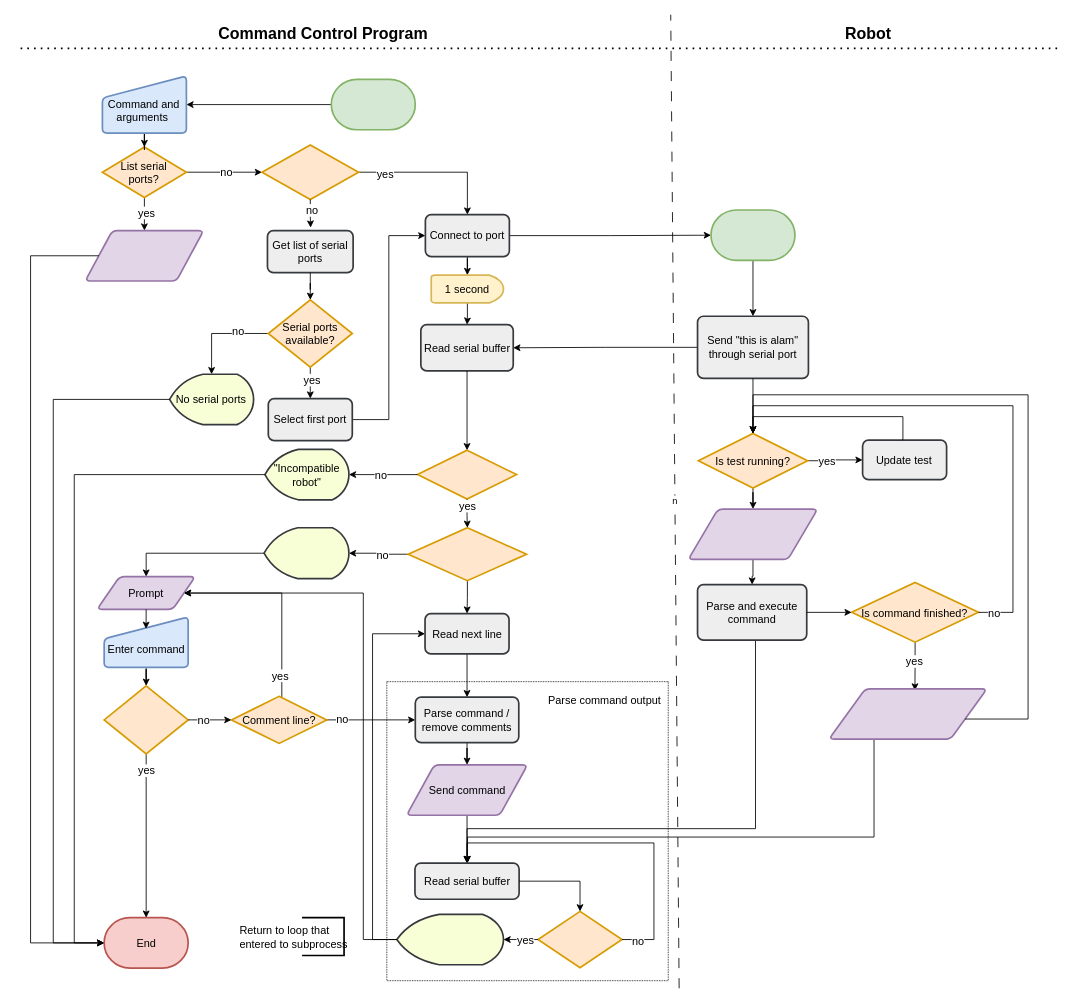
Image size: 1073x1004. Some labels were removed from this diagram. Here are the shapes that lost their labels. From the top down, the centre of each, then its label:
pixel 373 104: Start program
pixel 310 172: Port argument?
pixel 144 255: Available serial ports
pixel 752 235: Serial port connected
pixel 466 474: "this is alam"?
pixel 306 553: Welcome message
pixel 467 554: File in parameter?
pixel 752 534: Read serial buffer commands
pixel 146 719: ";EXIT" or Ctrl+C?
pixel 907 714: Send EOC (End of Command) message
pixel 450 939: Display command output
pixel 579 939: Is EOC?
